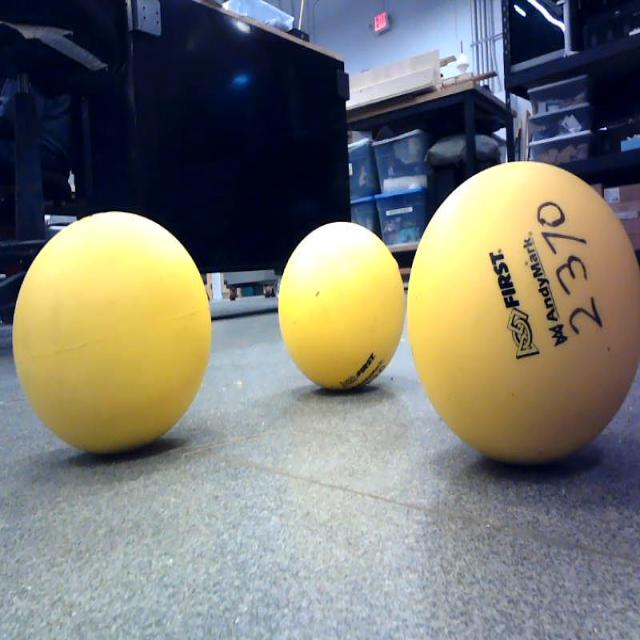Fuel: (406, 160, 640, 468), (12, 210, 212, 456), (277, 220, 406, 394)
